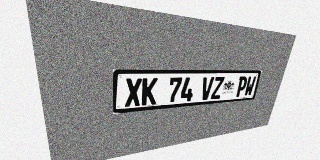4: (180, 77, 195, 102)
7: (167, 77, 182, 103)
K: (141, 78, 158, 105)
P: (235, 76, 248, 97)
V: (200, 77, 214, 100)
W: (243, 76, 256, 96)
X: (125, 78, 142, 107)
Z: (210, 77, 225, 99)
